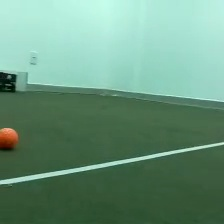ball: (1, 125, 20, 151)
goal: (1, 69, 29, 93)
robot: (1, 71, 18, 94)
